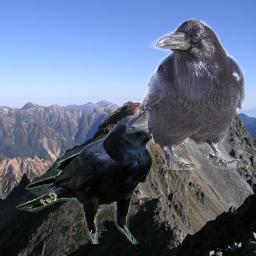Crow: (16, 116, 179, 244), (126, 17, 245, 170)
